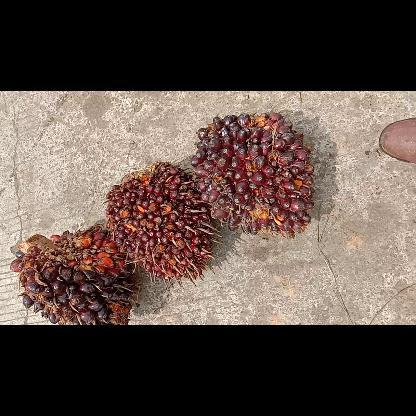Kurang masak: (192, 112, 314, 238), (104, 160, 220, 278)
TBS masak: (9, 226, 135, 324)
